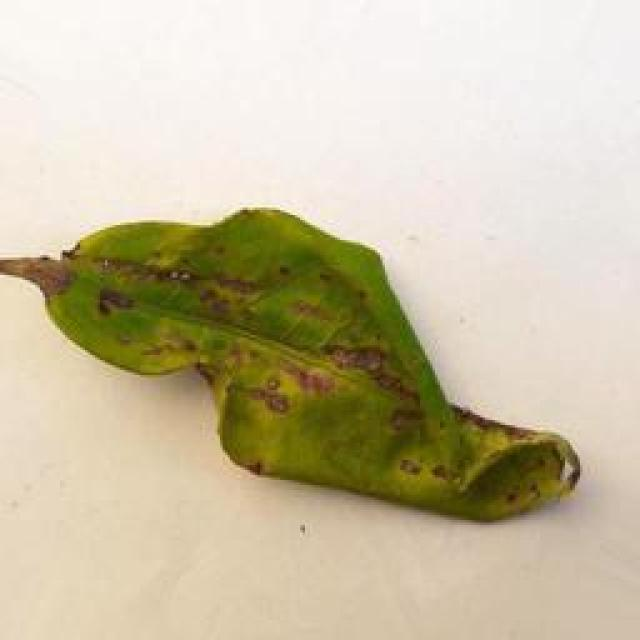Helopeltis: (2, 189, 590, 522)
